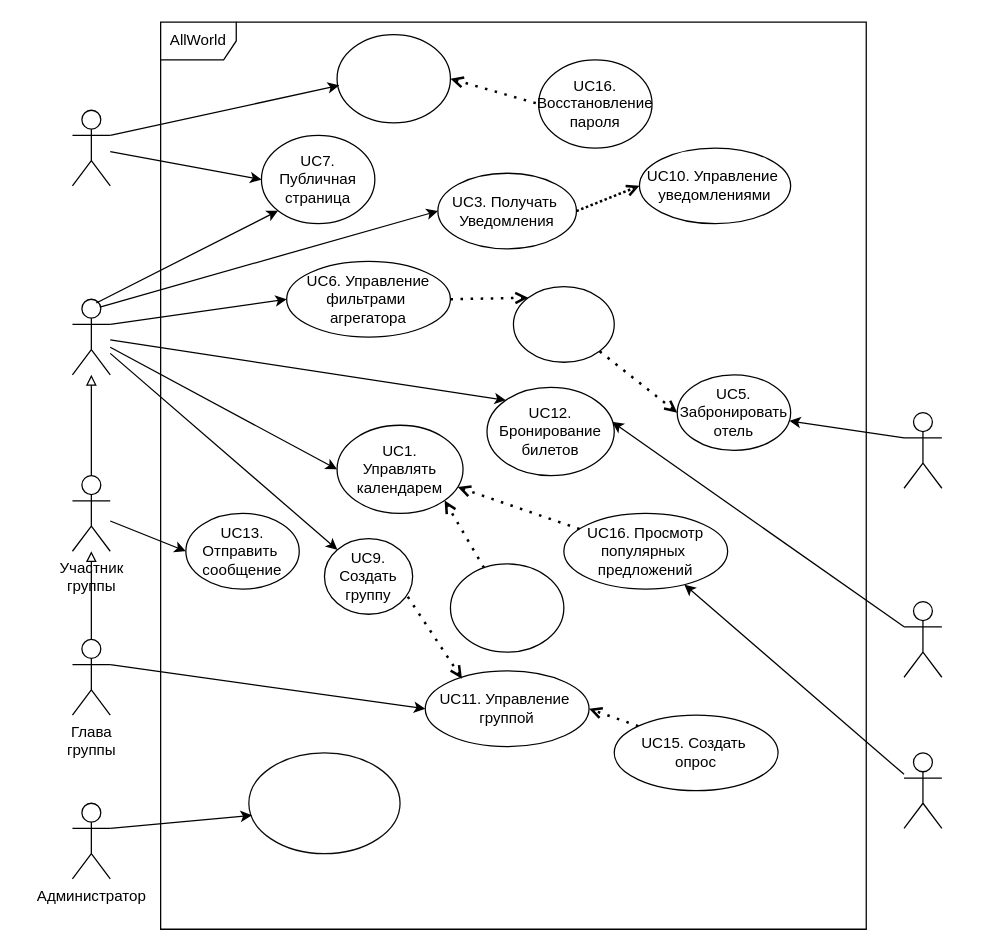
The diagram is 982 pixels wide and 951 high, and some of its shapes have lost their labels. The centre of each missing label's shape, as x and y in pixels:
"Aviasales" goes at [922,638].
"Booking" goes at [922,449].
"TripAdvisor" goes at [922,790].
"UC14. Просмотр метрики" goes at [324,803].
"UC2. Делать заметки" goes at [506,607].
"UC4. Агрегатор отелей" goes at [563,323].
"UC8. Регистрация" goes at [393,78].
"Авторизированный пользователь" goes at [90,336].
"Гость" goes at [90,147].
